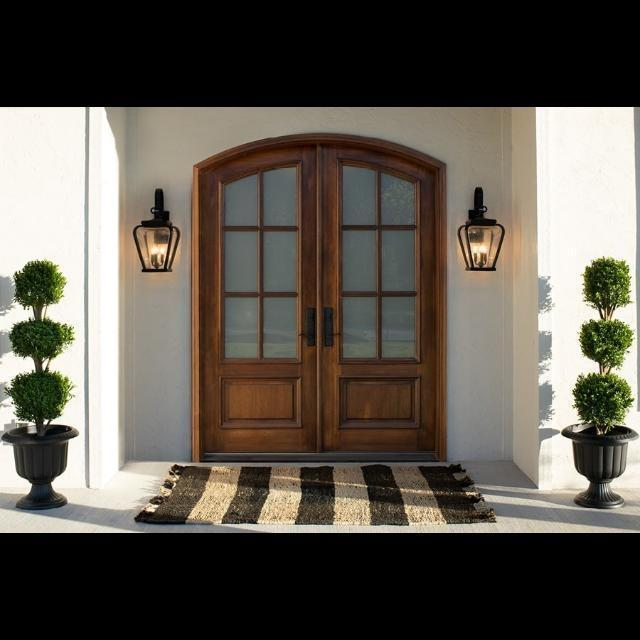door: (181, 117, 322, 469), (326, 119, 439, 461)
